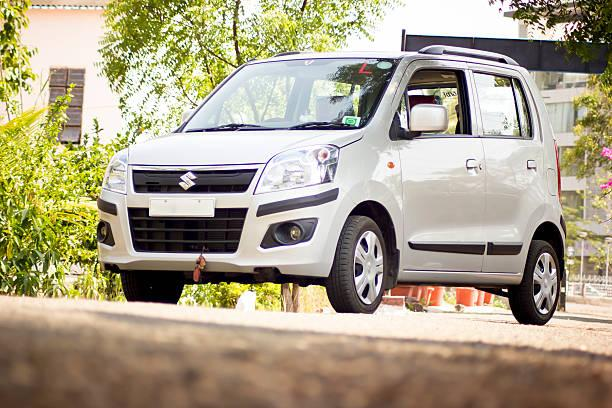suzuki: (174, 167, 200, 195)
